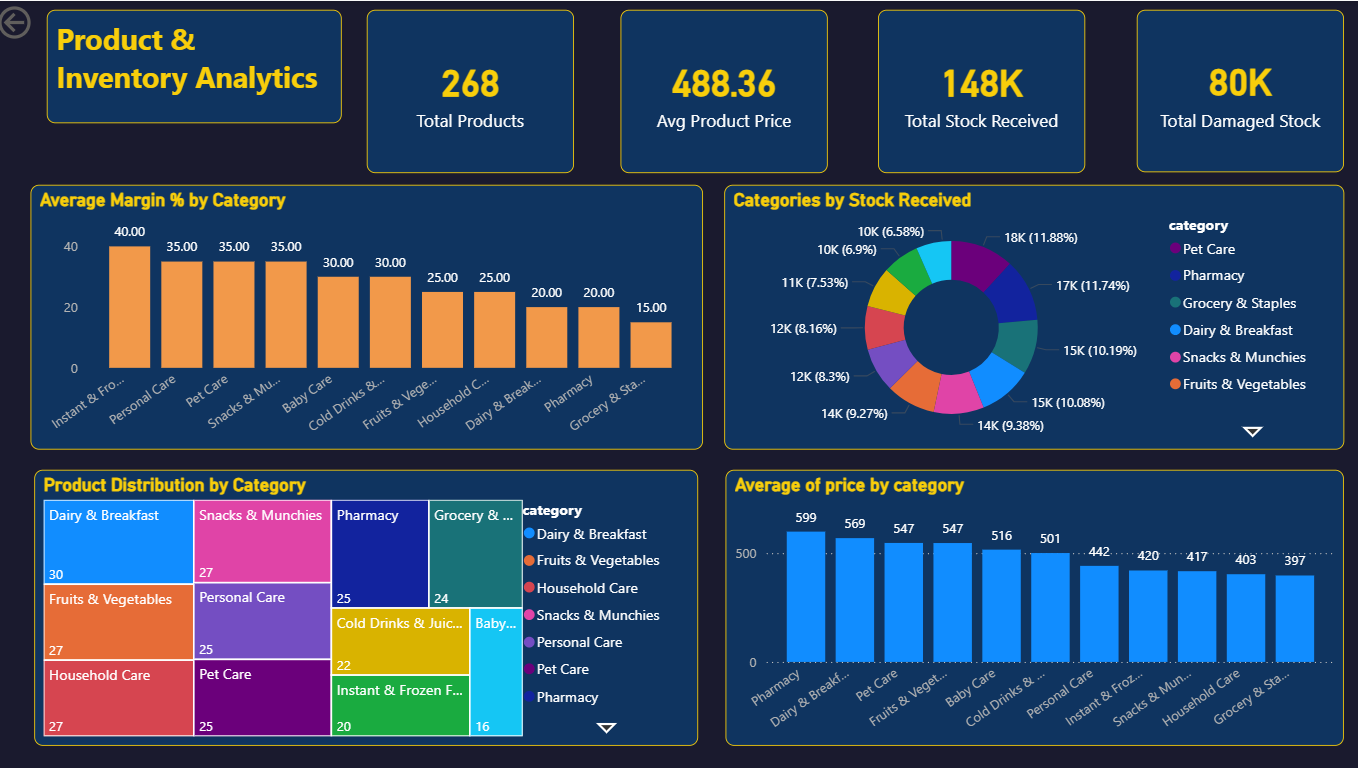

This screenshot's page, from the dashboard's own definition file:
{"tool":"powerbi","page":{"name":"Product & Inventory Analytics","canvas":[1280,720],"ordinal":3},"visuals":[{"type":"actionButton","box":[0,0,100,40],"z":0},{"type":"card","fields":{"Values":["_Measures.Total Products"]},"box":[347.7,8.1,193,152.3],"z":1000},{"type":"card","fields":{"Values":["_Measures.Avg Product Price"]},"box":[583.7,8.1,193,152.3],"z":2000},{"type":"card","fields":{"Values":["_Measures.Total Stock Received"]},"box":[823.3,8.1,193,152.3],"z":3000},{"type":"card","fields":{"Values":["_Measures.Total Damaged Stock"]},"box":[1064,8.1,193,151.2],"z":4000},{"type":"pieChart","title":"Categories by Stock Received","fields":{"Category":["products.category"],"Y":["Sum(inventory_historical.stock_received)"]},"box":[680.2,170.9,576.7,246.5],"z":5000},{"type":"columnChart","title":"Average Margin % by Category","fields":{"Category":["products.category"],"Y":["Avg(products.margin_percentage)"]},"box":[34.9,170.9,625.6,246.5],"z":6000},{"type":"treemap","title":"Product Distribution by Category","fields":{"Group":["products.category"],"Values":["CountNonNull(products.product_id)"]},"box":[38.4,436,617.4,257],"z":7000},{"type":"columnChart","fields":{"Category":["products.category"],"Y":["Avg(products.price)"]},"box":[681.4,436,575.6,257],"z":8000},{"type":"textbox","box":[50,8.1,274.4,105.8],"z":9000}]}

Visuals, with their boxes in screenshot pixels (x1, y1, x2, y2), scaled from the page's 1280x720 canvas onto the 1358x768 screenshot:
actionButton: {"x1": 0, "y1": 0, "x2": 106, "y2": 43}
card - _Measures.Total Products: {"x1": 369, "y1": 9, "x2": 574, "y2": 171}
card - _Measures.Avg Product Price: {"x1": 619, "y1": 9, "x2": 824, "y2": 171}
card - _Measures.Total Stock Received: {"x1": 873, "y1": 9, "x2": 1078, "y2": 171}
card - _Measures.Total Damaged Stock: {"x1": 1129, "y1": 9, "x2": 1334, "y2": 170}
"Categories by Stock Received" pieChart: {"x1": 722, "y1": 182, "x2": 1333, "y2": 445}
"Average Margin % by Category" columnChart: {"x1": 37, "y1": 182, "x2": 701, "y2": 445}
"Product Distribution by Category" treemap: {"x1": 41, "y1": 465, "x2": 696, "y2": 739}
columnChart - products.category x Avg(products.price): {"x1": 723, "y1": 465, "x2": 1334, "y2": 739}
textbox: {"x1": 53, "y1": 9, "x2": 344, "y2": 121}
